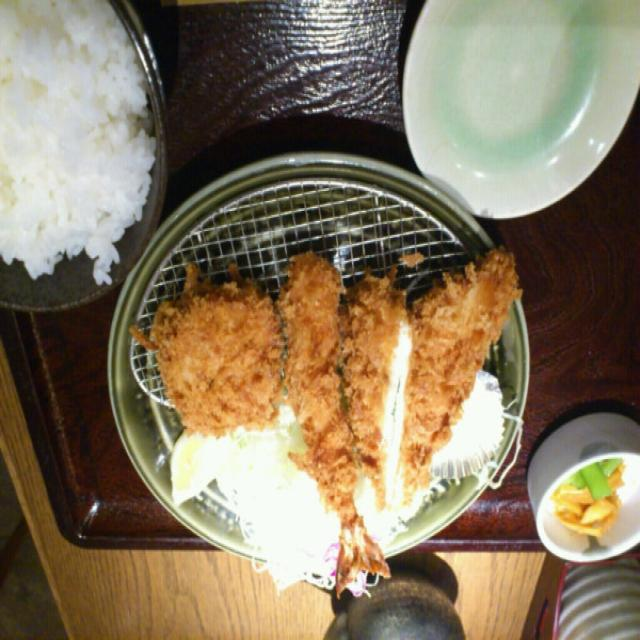Rice: (0, 0, 154, 294)
